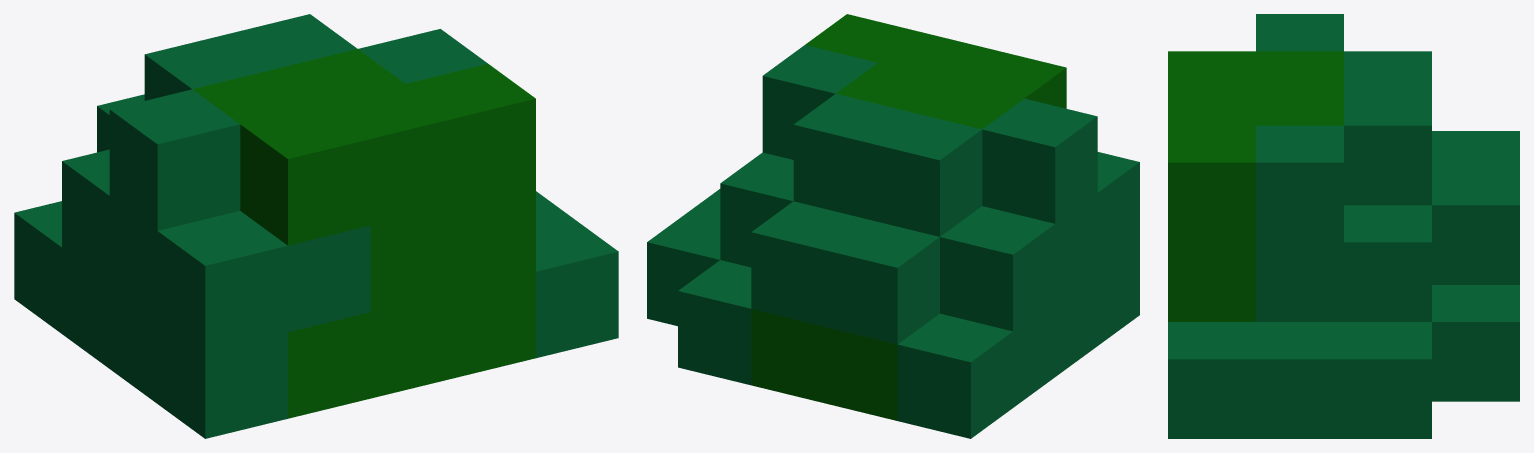
Rendered from amnyam-2.obj.
The picture shows the model from 3 angles, left to right: view 1: azimuth 30°, elevation 25°; view 2: azimuth 150°, elevation 25°; view 3: azimuth 270°, elevation 25°; orthographic projection. The views are drawn at different scales.
Size of the model in its own units: 0.5 by 0.3 by 0.4.
Materials: 1 (1 with a texture image).
